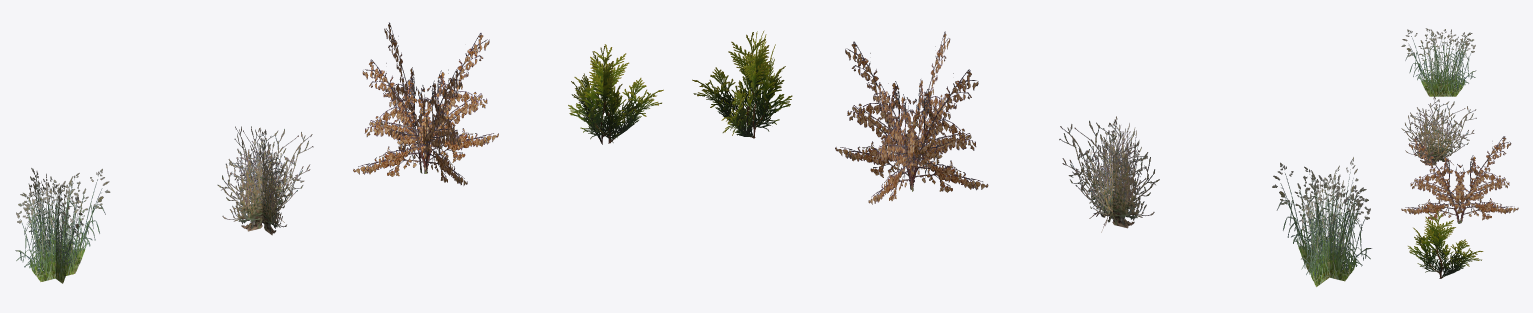
File: grass_and_bush_-_mobile_gameready.glb
The picture shows the model from 3 angles, left to right: view 1: azimuth 30°, elevation 25°; view 2: azimuth 150°, elevation 25°; view 3: azimuth 270°, elevation 25°; orthographic projection. The views are drawn at different scales.
Parts seen in each view (by area): view 1: planet3, planet1, planet2, planet4; view 2: planet3, planet1, planet2, planet4; view 3: planet3, planet1, planet2, planet4.
Boxes of the visible parts, x1,y1,x2,y2 form: planet3: [353, 22, 498, 185]; planet1: [15, 168, 110, 283]; planet2: [217, 126, 313, 235]; planet4: [568, 44, 663, 144]; planet3: [835, 31, 988, 204]; planet1: [1272, 157, 1371, 286]; planet2: [1059, 116, 1159, 232]; planet4: [692, 30, 792, 138]; planet3: [1401, 136, 1518, 223]; planet1: [1401, 28, 1476, 96]; planet2: [1401, 96, 1476, 165]; planet4: [1408, 210, 1483, 278].
Size of the model in its own units: 255 by 48.43 by 58.64.
Materials: 1 (1 with a texture image).
